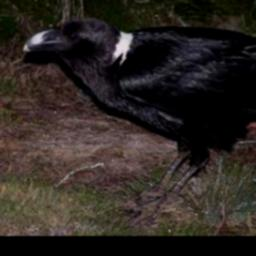Crow: (22, 16, 256, 228)
